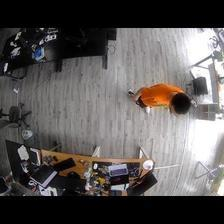normal: (127, 81, 191, 115)
